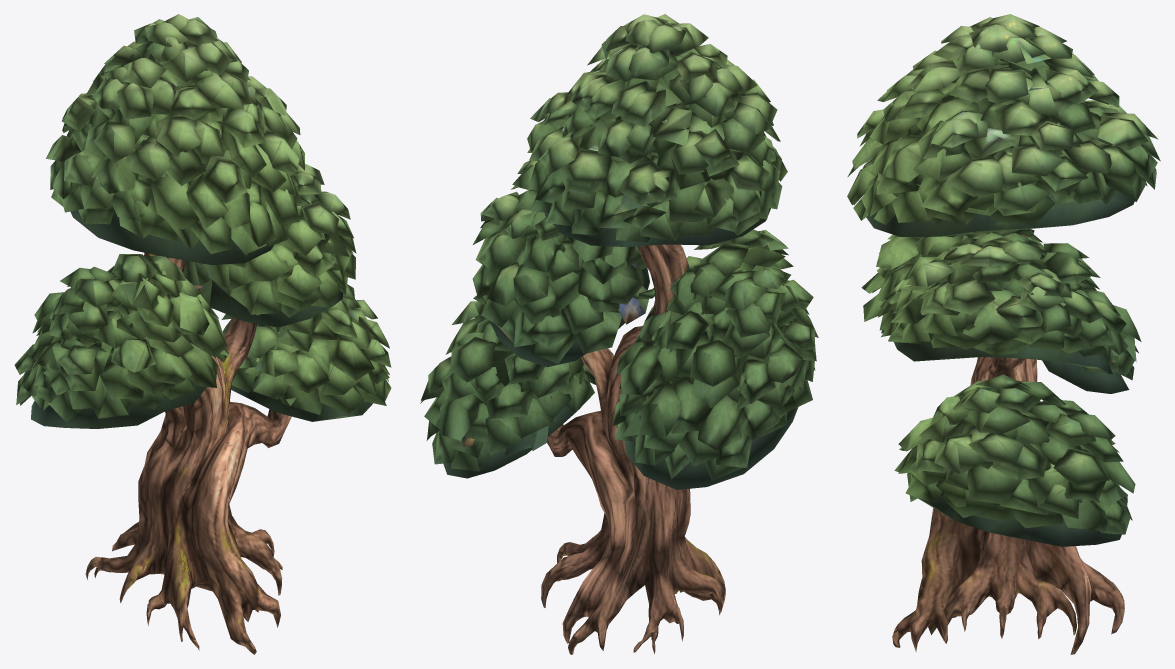
File: tree.glb
3 views of the same model, side by side, from view 1: azimuth 30°, elevation 25°; view 2: azimuth 150°, elevation 25°; view 3: azimuth 270°, elevation 25° (orthographic). The views are drawn at different scales.
Visible parts, largest first — view 1: TREE; view 2: TREE; view 3: TREE.
Boxes of the visible parts, x1,y1,x2,y2 form: TREE: (14,14,391,654); TREE: (420,14,818,654); TREE: (847,14,1160,654).
Bounding box in the file's own units: 3.04 × 5.4 × 2.48.
Materials: 1 (1 with a texture image).
